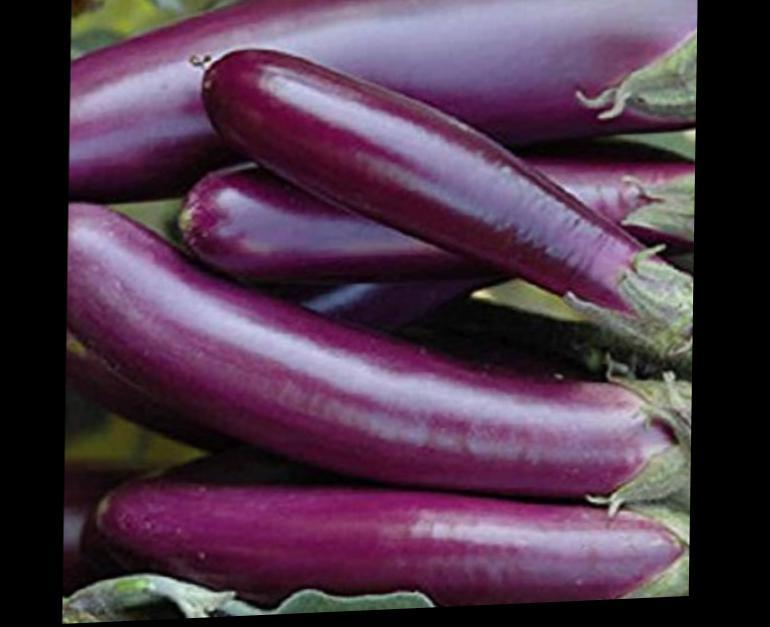eggplant: (70, 0, 700, 607)
